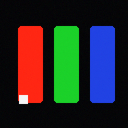1 square: (19, 95, 27, 103)
